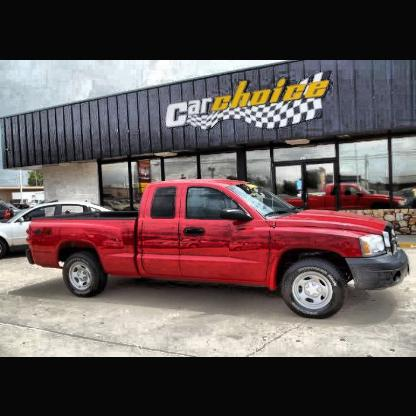Dodge Dakota Club Cab 2007: (25, 177, 413, 321)
